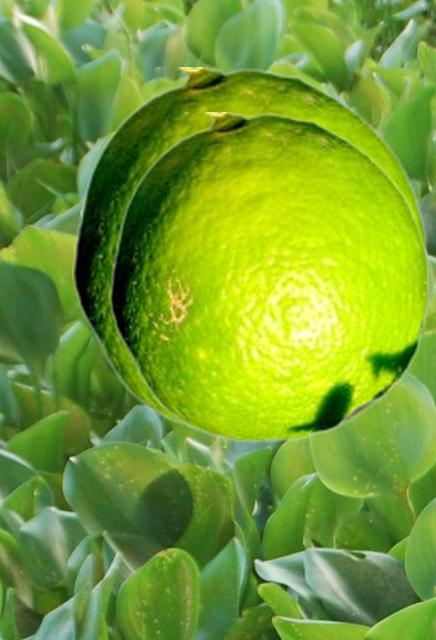dalandan: (72, 67, 427, 432), (109, 112, 429, 442)
